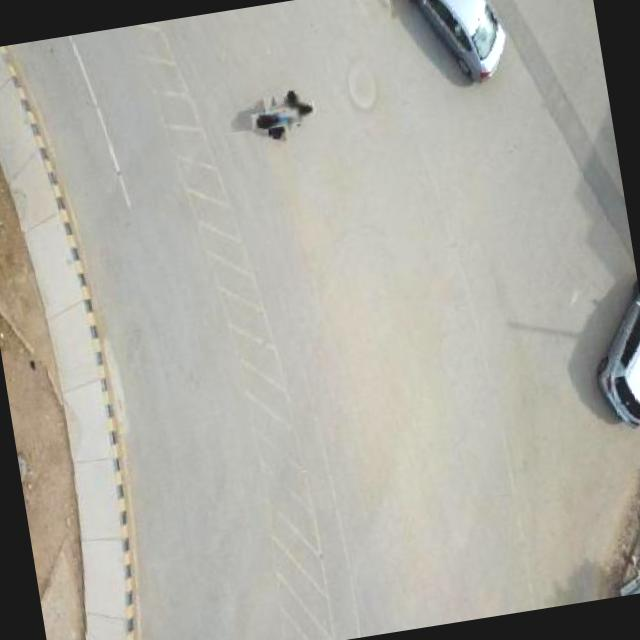Person: (256, 102, 293, 139), (276, 94, 310, 126)
